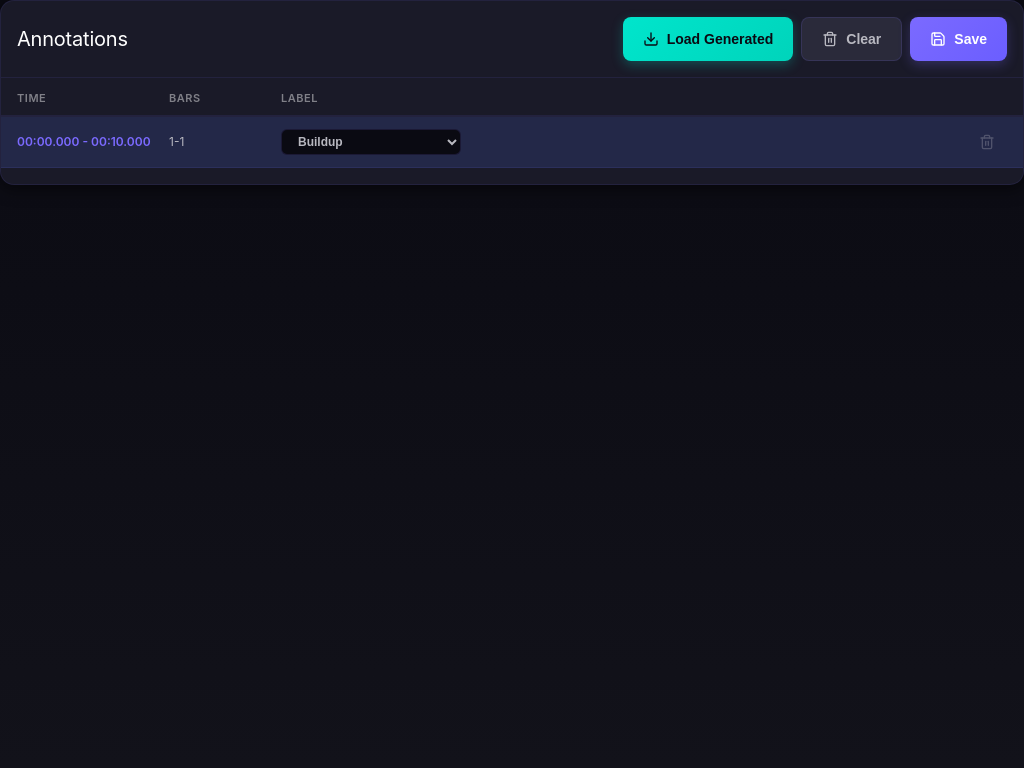
RegionListContainer › Clear Button › shows confirmation dialog when clearing with unsaved changes
This screenshot has width=1024, height=768.
Click the button "Clear": point(852, 39) [801, 17, 902, 61]
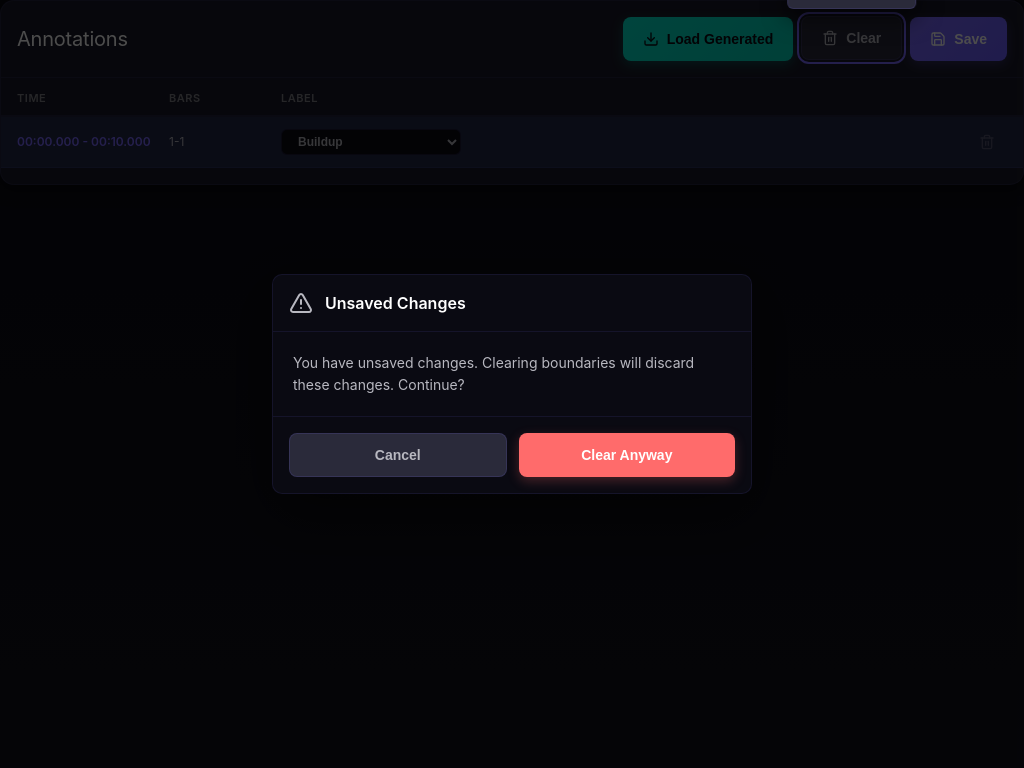
expect the heading "Unsaved Changes" is shown: met, box [325, 291, 466, 315]
expect the text "Clearing boundaries will discard" is shown: met, box [293, 354, 694, 393]
